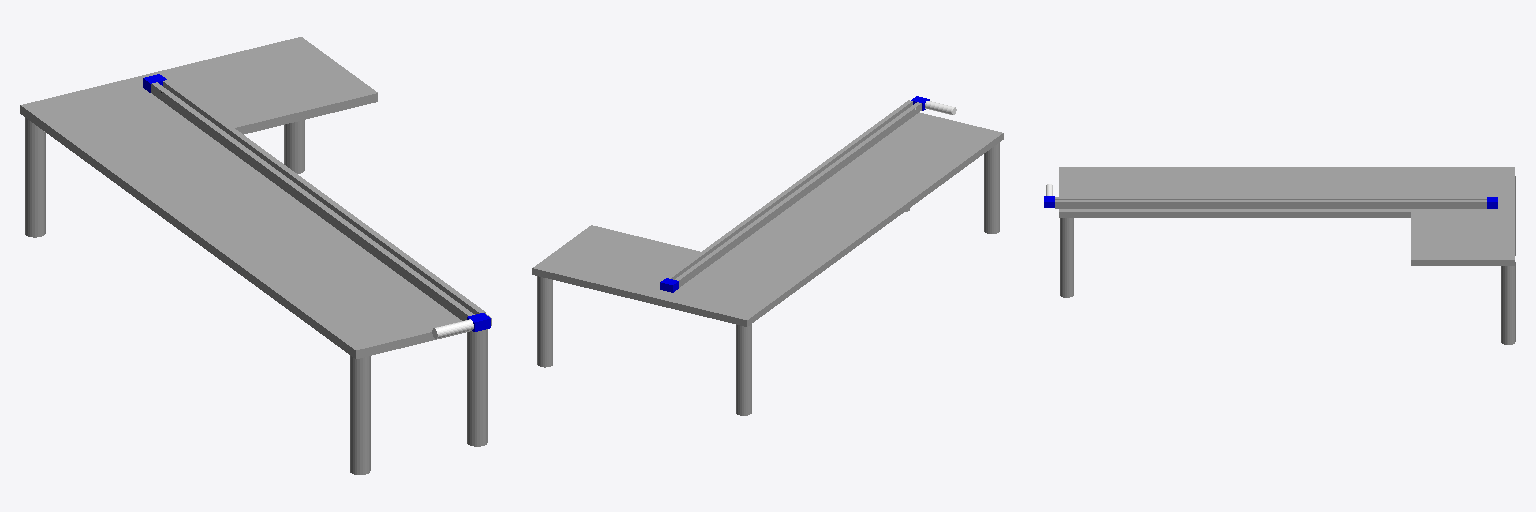
The robot description file, URDF, robot "ur10":
<?xml version="1.0" ?>
<!-- =================================================================================== -->
<!-- |    This document was autogenerated by xacro from excel_robot.urdf.xacro         | -->
<!-- |    EDITING THIS FILE BY HAND IS NOT RECOMMENDED                                 | -->
<!-- =================================================================================== -->
<robot name="ur10" xmlns:controller="http://playerstage.sourceforge.net/gazebo/xmlschema/#controller" xmlns:interface="http://playerstage.sourceforge.net/gazebo/xmlschema/#interface" xmlns:sensor="http://playerstage.sourceforge.net/gazebo/xmlschema/#sensor" xmlns:xacro="http://ros.org/wiki/xacro">
  <!-- common stuff -->
  <gazebo>
    <plugin filename="libgazebo_ros_controller_manager.so" name="gazebo_ros_controller_manager">
      <alwaysOn>true</alwaysOn>
      <updateRate>1000.0</updateRate>
    </plugin>
    <plugin filename="libgazebo_ros_power_monitor.so" name="gazebo_ros_power_monitor_controller">
      <alwaysOn>true</alwaysOn>
      <updateRate>1.0</updateRate>
      <timeout>5</timeout>
      <powerStateTopic>power_state</powerStateTopic>
      <powerStateRate>10.0</powerStateRate>
      <fullChargeCapacity>87.78</fullChargeCapacity>
      <dischargeRate>-474</dischargeRate>
      <chargeRate>525</chargeRate>
      <dischargeVoltage>15.52</dischargeVoltage>
      <chargeVoltage>16.41</chargeVoltage>
    </plugin>
  </gazebo>
  <!-- ur10 -->
  <material name="UR/Blue">
    <color rgba="0.0 0.0 0.8 1.0"/>
  </material>
  <material name="UR/Grey">
    <color rgba="0.7 0.7 0.7 1.0"/>
  </material>
  <!-- arm -->
  <link name="base_link">
    <visual>
      <geometry>
        <mesh filename="package://ur_description/meshes/ur10/visual/Base.stl"/>
      </geometry>
      <origin rpy="0.0 0.0 2.3561944875" xyz="0.0 0.0 0.003"/>
      <material name="UR/Blue"/>
    </visual>
    <collision>
      <geometry>
        <mesh filename="package://ur_description/meshes/ur10/collision/Base.stl"/>
      </geometry>
      <origin rpy="0.0 0.0 2.3561944875" xyz="0.0 0.0 0.003"/>
    </collision>
    <inertial>
      <mass value="4.0"/>
      <inertia ixx="1.0" ixy="0.0" ixz="0.0" iyy="1.0" iyz="0.0" izz="1.0"/>
    </inertial>
  </link>
  <joint name="shoulder_pan_joint" type="revolute">
    <parent link="base_link"/>
    <child link="shoulder_link"/>
    <origin rpy="0.0 0.0 0.0" xyz="0.0 0.0 0.128"/>
    <axis xyz="0.0 0.0 1.0"/>
    <limit effort="330.0" lower="-6.2831853" upper="6.2831853" velocity="2.16"/>
    <dynamics damping="1.2" friction="0.0"/>
  </joint>
  <link name="shoulder_link">
    <visual>
      <geometry>
        <mesh filename="package://ur_description/meshes/ur10/visual/Shoulder.stl"/>
      </geometry>
      <material name="UR/Grey"/>
    </visual>
    <collision>
      <geometry>
        <mesh filename="package://ur_description/meshes/ur10/collision/Shoulder.stl"/>
      </geometry>
    </collision>
    <inertial>
      <mass value="3.7"/>
      <inertia ixx="1.0" ixy="0.0" ixz="0.0" iyy="1.0" iyz="0.0" izz="1.0"/>
      <origin rpy="0.0 0.0 0.0" xyz="0.0 0.00193 -0.02561"/>
    </inertial>
  </link>
  <joint name="shoulder_lift_joint" type="revolute">
    <parent link="shoulder_link"/>
    <child link="upper_arm_link"/>
    <origin rpy="0.0 1.570796325 0.0" xyz="0.0 0.1704 0.0"/>
    <axis xyz="0.0 1.0 0.0"/>
    <limit effort="10.0" lower="-6.2831853" upper="6.2831853" velocity="3.14159265"/>
    <dynamics damping="1.2" friction="0.0"/>
  </joint>
  <link name="upper_arm_link">
    <visual>
      <geometry>
        <mesh filename="package://ur_description/meshes/ur10/visual/UpperArm.stl"/>
      </geometry>
      <origin rpy="0.0 0.0 0.0" xyz="0.0 0.0 0.0"/>
      <material name="UR/Blue"/>
    </visual>
    <collision>
      <geometry>
        <mesh filename="package://ur_description/meshes/ur10/collision/UpperArm.stl"/>
      </geometry>
      <origin rpy="0.0 0.0 0.0" xyz="0.0 0.0 0.0"/>
    </collision>
    <inertial>
      <mass value="8.393"/>
      <inertia ixx="1.0" ixy="0.0" ixz="0.0" iyy="1.0" iyz="0.0" izz="1.0"/>
      <origin rpy="0.0 0.0 0.0" xyz="0.0 -0.024201 0.2125"/>
    </inertial>
  </link>
  <joint name="elbow_joint" type="revolute">
    <parent link="upper_arm_link"/>
    <child link="forearm_link"/>
    <origin rpy="0.0 0.0 0.0" xyz="0.0 -0.12817 0.60186"/>
    <axis xyz="0.0 1.0 0.0"/>
    <limit effort="150.0" lower="-6.2831853" upper="6.2831853" velocity="3.14159265"/>
    <dynamics damping="0.6" friction="0.0"/>
  </joint>
  <link name="forearm_link">
    <visual>
      <geometry>
        <mesh filename="package://ur_description/meshes/ur10/visual/Forearm.stl"/>
      </geometry>
      <material name="UR/Grey"/>
    </visual>
    <collision>
      <geometry>
        <mesh filename="package://ur_description/meshes/ur10/collision/Forearm.stl"/>
      </geometry>
    </collision>
    <inertial>
      <mass value="2.275"/>
      <origin rpy="0.0 0.0 0.0" xyz="0.0 0.0265 0.11993"/>
      <inertia ixx="1.0" ixy="0.0" ixz="0.0" iyy="1.0" iyz="0.0" izz="1.0"/>
    </inertial>
  </link>
  <joint name="wrist_1_joint" type="revolute">
    <parent link="forearm_link"/>
    <child link="wrist_1_link"/>
    <origin rpy="0.0 1.570796325 0.0" xyz="0.0 0.0 0.56415"/>
    <axis xyz="0.0 1.0 0.0"/>
    <limit effort="54.0" lower="-6.2831853" upper="6.2831853" velocity="3.14159265"/>
    <dynamics damping="0.6" friction="0.0"/>
  </joint>
  <link name="wrist_1_link">
    <visual>
      <geometry>
        <mesh filename="package://ur_description/meshes/ur10/visual/Wrist1.stl"/>
      </geometry>
      <origin rpy="0.0 0 0.0" xyz="0.0 0.11279 0.0"/>
      <material name="UR/Blue"/>
    </visual>
    <collision>
      <geometry>
        <mesh filename="package://ur_description/meshes/ur10/collision/Wrist1.stl"/>
      </geometry>
      <origin rpy="0.0 0 0.0" xyz="0.0 0.11279 0.0"/>
    </collision>
    <inertial>
      <mass value="1.219"/>
      <origin rpy="0.0 0.0 0.0" xyz="0.0 0.110949 0.01634"/>
      <inertia ixx="1.0" ixy="0.0" ixz="0.0" iyy="1.0" iyz="0.0" izz="1.0"/>
    </inertial>
  </link>
  <joint name="wrist_2_joint" type="revolute">
    <parent link="wrist_1_link"/>
    <child link="wrist_2_link"/>
    <origin rpy="0.0 0.0 0.0" xyz="0.0 0.11279 0.0"/>
    <axis xyz="0.0 0.0 1.0"/>
    <limit effort="54.0" lower="-6.2831853" upper="6.2831853" velocity="3.14159265"/>
    <dynamics damping="0.6" friction="0.0"/>
  </joint>
  <link name="wrist_2_link">
    <visual>
      <geometry>
        <mesh filename="package://ur_description/meshes/ur10/visual/Wrist2.stl"/>
      </geometry>
      <origin rpy="0.0 0.0 0.0" xyz="0.0 0.0 0.11279"/>
      <material name="UR/Grey"/>
    </visual>
    <collision>
      <geometry>
        <mesh filename="package://ur_description/meshes/ur10/collision/Wrist2.stl"/>
      </geometry>
      <origin rpy="0.0 0.0 0.0" xyz="0.0 0.0 0.11279"/>
    </collision>
    <inertial>
      <mass value="1.219"/>
      <origin rpy="0.0 0.0 0.0" xyz="0.0 0.0018 0.11099"/>
      <inertia ixx="1.0" ixy="0.0" ixz="0.0" iyy="1.0" iyz="0.0" izz="1.0"/>
    </inertial>
  </link>
  <joint name="wrist_3_joint" type="revolute">
    <parent link="wrist_2_link"/>
    <child link="wrist_3_link"/>
    <origin rpy="0.0 0.0 0.0" xyz="0.0 0.0 0.11279"/>
    <axis xyz="0.0 1.0 0.0"/>
    <limit effort="54.0" lower="-6.2831853" upper="6.2831853" velocity="3.14159265"/>
    <dynamics damping="0.6" friction="0.0"/>
  </joint>
  <link name="wrist_3_link">
    <visual>
      <geometry>
        <mesh filename="package://ur_description/meshes/ur10/visual/Wrist3.stl"/>
      </geometry>
      <origin rpy="0.0 0.0 0" xyz="0.0 0.0857 0.0"/>
      <material name="UR/Blue"/>
    </visual>
    <collision>
      <geometry>
        <mesh filename="package://ur_description/meshes/ur10/collision/Wrist3.stl"/>
      </geometry>
      <origin rpy="0.0 0.0 0" xyz="0.0 0.0857 0.0"/>
    </collision>
    <inertial>
      <mass value="0.1879"/>
      <origin rpy="0.0 0.0 0.0" xyz="0.0 0.001159 0.0"/>
      <inertia ixx="1.0" ixy="0.0" ixz="0.0" iyy="1.0" iyz="0.0" izz="1.0"/>
    </inertial>
  </link>
  <transmission name="shoulder_pan_trans" type="pr2_mechanism_model/SimpleTransmission">
    <actuator name="shoulder_pan_motor"/>
    <joint name="shoulder_pan_joint"/>
    <mechanicalReduction>1</mechanicalReduction>
  </transmission>
  <transmission name="shoulder_lift_trans" type="pr2_mechanism_model/SimpleTransmission">
    <actuator name="shoulder_lift_motor"/>
    <joint name="shoulder_lift_joint"/>
    <mechanicalReduction>1</mechanicalReduction>
  </transmission>
  <transmission name="elbow_trans" type="pr2_mechanism_model/SimpleTransmission">
    <actuator name="elbow_motor"/>
    <joint name="elbow_joint"/>
    <mechanicalReduction>1</mechanicalReduction>
  </transmission>
  <transmission name="wrist_1_trans" type="pr2_mechanism_model/SimpleTransmission">
    <actuator name="wrist_1_motor"/>
    <joint name="wrist_1_joint"/>
    <mechanicalReduction>1</mechanicalReduction>
  </transmission>
  <transmission name="wrist_2_trans" type="pr2_mechanism_model/SimpleTransmission">
    <actuator name="wrist_2_motor"/>
    <joint name="wrist_2_joint"/>
    <mechanicalReduction>1</mechanicalReduction>
  </transmission>
  <transmission name="wrist_3_trans" type="pr2_mechanism_model/SimpleTransmission">
    <actuator name="wrist_3_motor"/>
    <joint name="wrist_3_joint"/>
    <mechanicalReduction>1</mechanicalReduction>
  </transmission>
  <gazebo reference="base_link">
    <material value="Gazebo/Grey"/>
    <turnGravityOff>false</turnGravityOff>
  </gazebo>
  <gazebo reference="shoulder_pan_link">
    <material value="Gazebo/Blue "/>
    <turnGravityOff>false</turnGravityOff>
  </gazebo>
  <gazebo reference="shoulder_lift_link">
    <material value="Gazebo/Grey"/>
    <turnGravityOff>false</turnGravityOff>
  </gazebo>
  <gazebo reference="elbow_link">
    <material value="Gazebo/Blue "/>
    <turnGravityOff>false</turnGravityOff>
  </gazebo>
  <gazebo reference="wrist_1_link">
    <material value="Gazebo/Grey"/>
    <turnGravityOff>false</turnGravityOff>
  </gazebo>
  <gazebo reference="wrist_2_link">
    <material value="Gazebo/Blue "/>
    <turnGravityOff>false</turnGravityOff>
  </gazebo>
  <gazebo reference="wrist_3_link">
    <material value="Gazebo/Grey"/>
    <turnGravityOff>false</turnGravityOff>
  </gazebo>
  <!-- rail -->
  <link name="table_link">
    <visual>
      <geometry>
        <mesh filename="package://excel_description/meshes/visual/table+rail.dae"/>
      </geometry>
      <origin rpy="0.0 0.0 0.0" xyz="0 0.0 0"/>
    </visual>
    <collision>
      <geometry>
        <mesh filename="package://excel_description/meshes/collision/table_collision.stl"/>
      </geometry>
      <origin rpy="0.0 0.0 0.0" xyz="0 0.0 0"/>
    </collision>
  </link>
  <joint name="table_rail_joint" type="fixed">
    <parent link="table_link"/>
    <child link="rail_link"/>
    <origin rpy="0.0 0.0 0.0" xyz="0.80137 0.05588 0.9"/>
  </joint>
  <link name="rail_link">
    <inertial>
      <mass value="50.0"/>
      <inertia ixx="1.0" ixy="0.0" ixz="0.0" iyy="1.0" iyz="0.0" izz="1.0"/>
    </inertial>
  </link>
  <joint name="rail_base_joint" type="prismatic">
    <parent link="rail_link"/>
    <child link="base_link"/>
    <origin rpy="0.0 0.0 0.0" xyz="0.0 0.0 0.0"/>
    <axis xyz="0 1 0"/>
    <limit effort="10.0" lower="0.0" upper="3.75" velocity="3.14159265"/>
    <dynamics damping="10" friction="0.1"/>
  </joint>
</robot>

--- What the picture shows (computed from the rendered views, not written in the file) ---
3 views of the same robot in one strip: view 1: azimuth 30°, elevation 25°; view 2: azimuth 150°, elevation 25°; view 3: azimuth 270°, elevation 25° (orthographic).
Model ur10 with 9 links and 8 joints (6 revolute, 1 prismatic, 1 fixed), rooted at table_link, posed all joints at 0.
Links seen in each view (by area): view 1: table_link; view 2: table_link; view 3: table_link.
Boxes of the visible links, left/top/right/bottom form: table_link: left=20, top=37, right=491, bottom=474; table_link: left=532, top=96, right=1003, bottom=415; table_link: left=1044, top=167, right=1515, bottom=344.
Size in the robot's own frame: 1.92 by 4.09 by 0.8902 metres.
Meshes: 8 distinct files referenced, 1 mesh visuals loaded (1 Collada DAE); not drawn: 7 (reference not matched to a file when rendering).